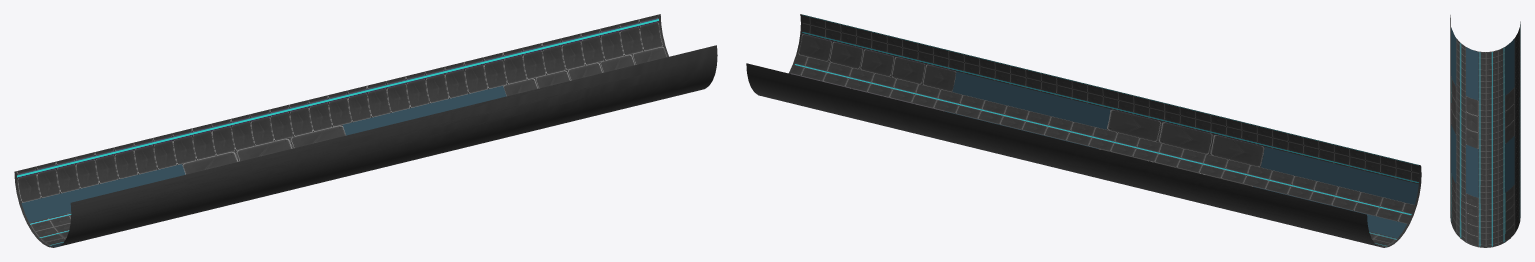
The model's file is semitube.fbx.
The picture shows the model from 3 angles, left to right: view 1: azimuth 30°, elevation 25°; view 2: azimuth 150°, elevation 25°; view 3: azimuth 270°, elevation 25°; orthographic projection. The views are drawn at different scales.
Visible parts, largest first — view 1: tube, windows; view 2: tube, windows; view 3: tube, windows.
Part boxes in pixels (x1,y1,x2,y2): tube: (14, 14, 717, 247); windows: (21, 86, 506, 246); tube: (746, 14, 1421, 247); windows: (945, 71, 1418, 238); tube: (1450, 15, 1520, 247); windows: (1451, 27, 1514, 197).
Bounding box in the file's own units: 3712 × 338 × 565.
